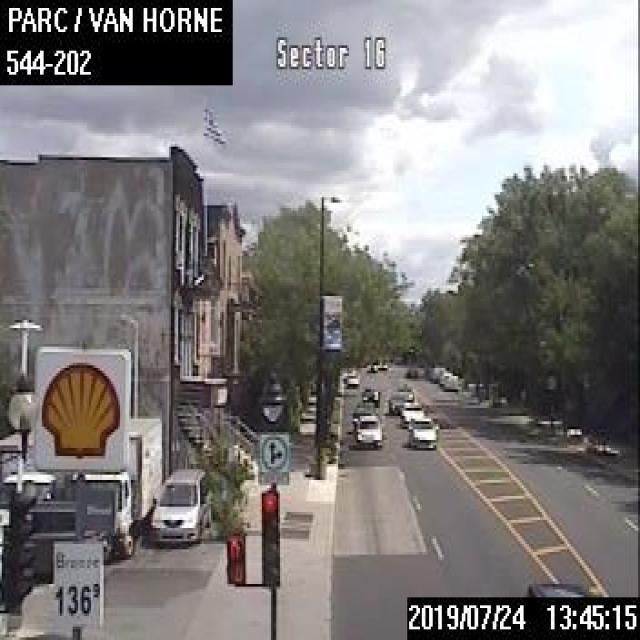vehicle: (70, 415, 161, 558), (149, 467, 210, 545), (349, 412, 383, 446), (407, 414, 438, 447), (398, 399, 422, 426), (350, 399, 377, 417), (387, 389, 407, 411), (360, 385, 380, 405), (396, 381, 413, 399), (443, 373, 460, 389), (428, 363, 443, 378), (345, 371, 358, 385), (438, 370, 451, 384)
